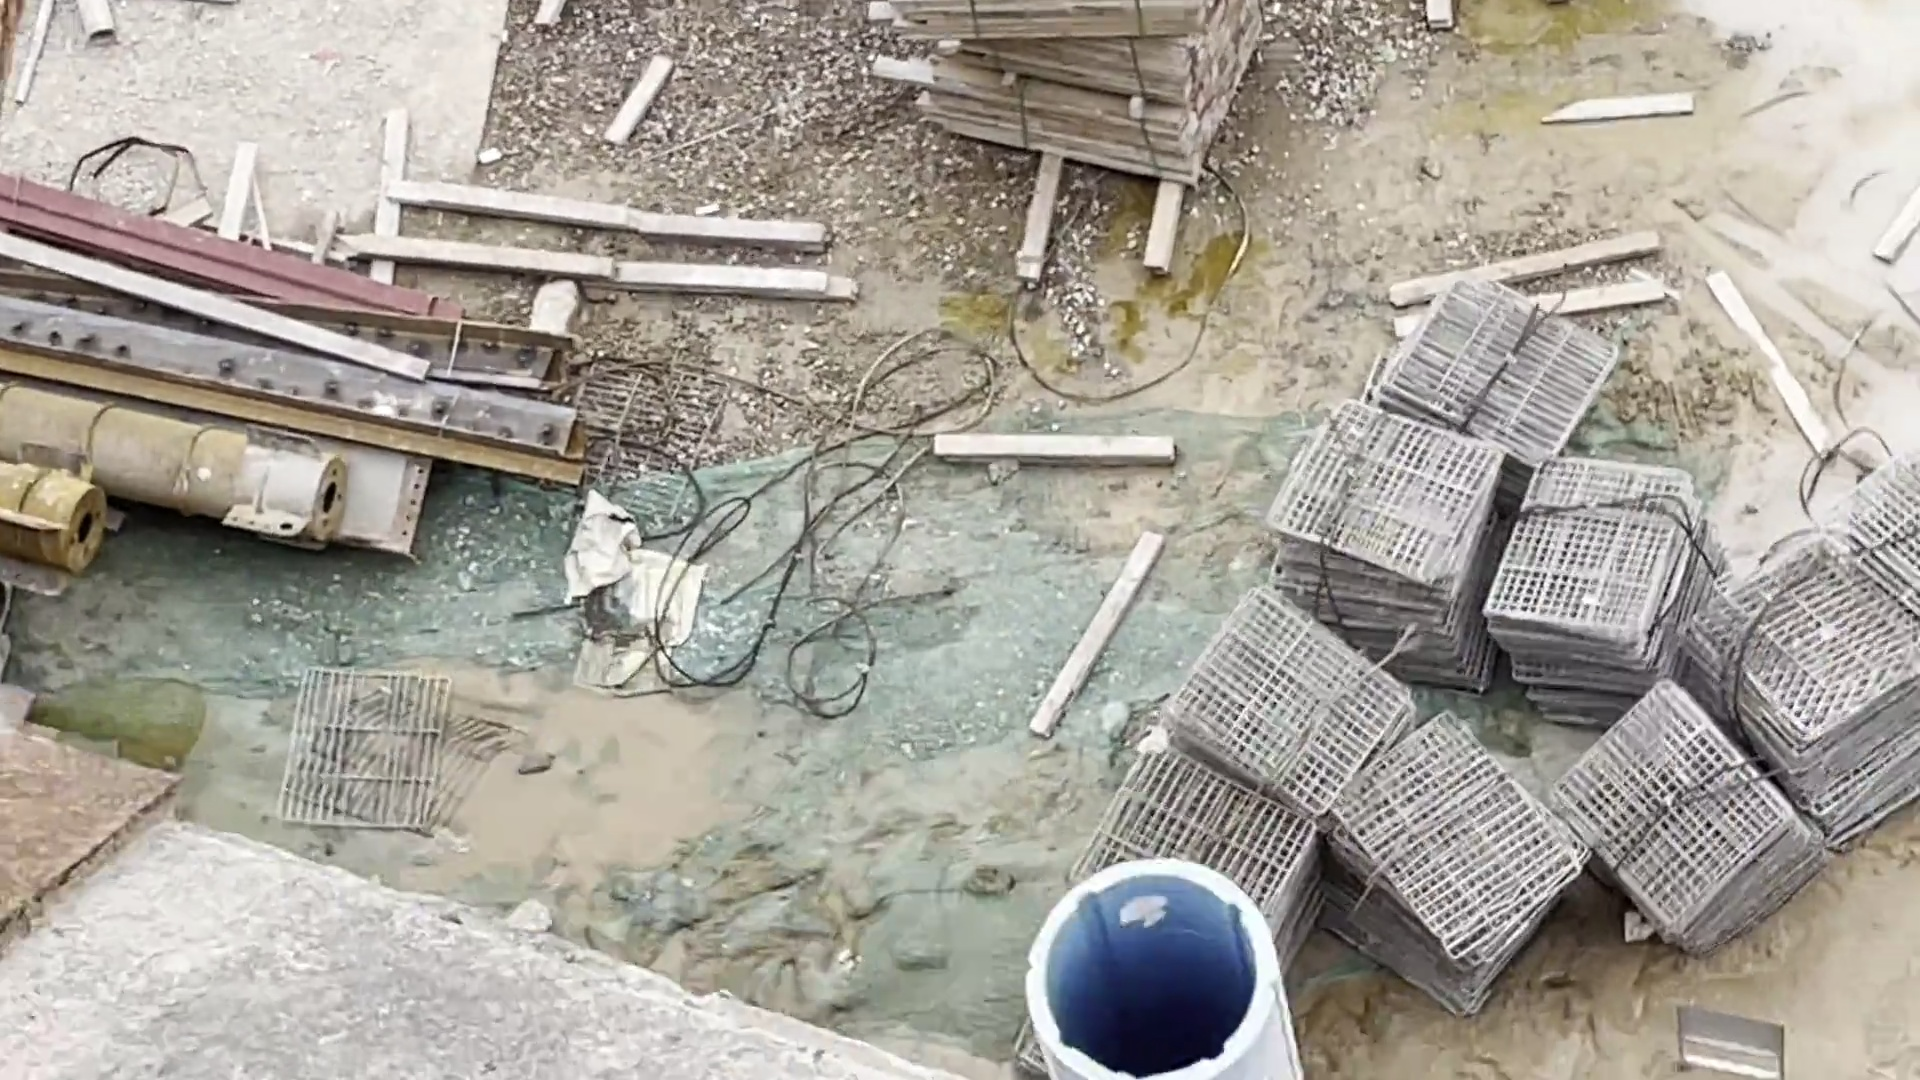wood: (858, 3, 1280, 191)
